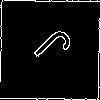J: (24, 24, 75, 76)
